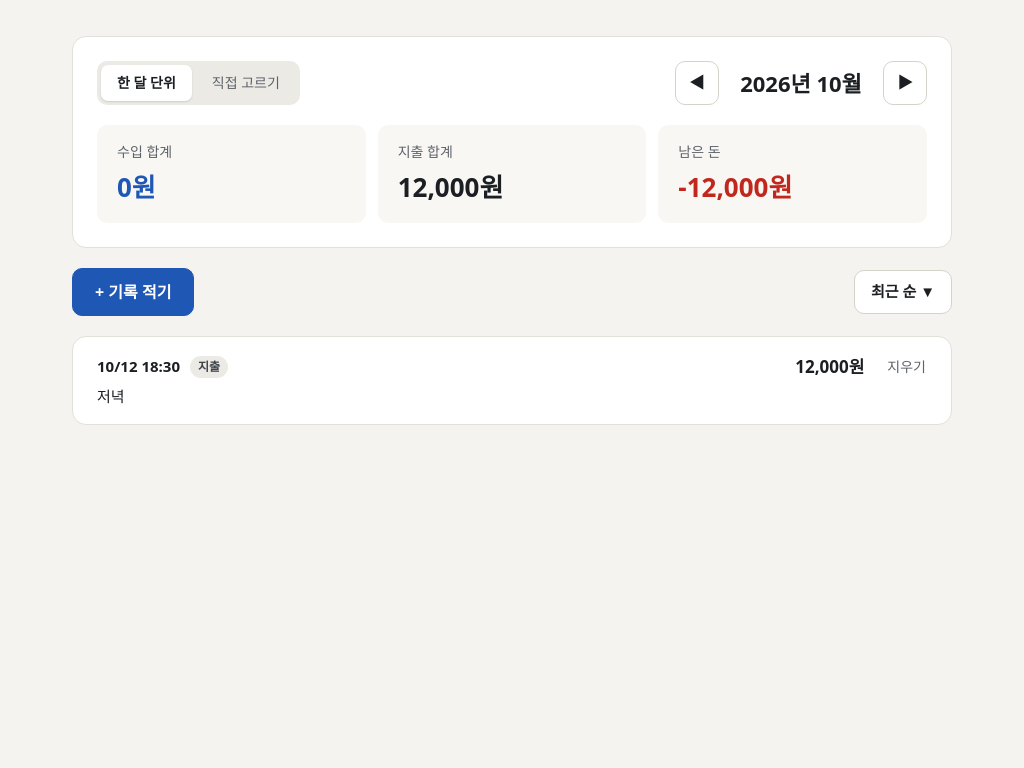
지우기 (P-17) › T-311 [지우기]만 누르면 S-07이 열리고 요청하지 않는다. [아니요]는 요청 없이 닫는다
The image size is (1024, 768).
Expected: the text "저녁" is shown, [97,386,125,406]
Click the button "지우기": x=907, y=367 [874,345,939,389]
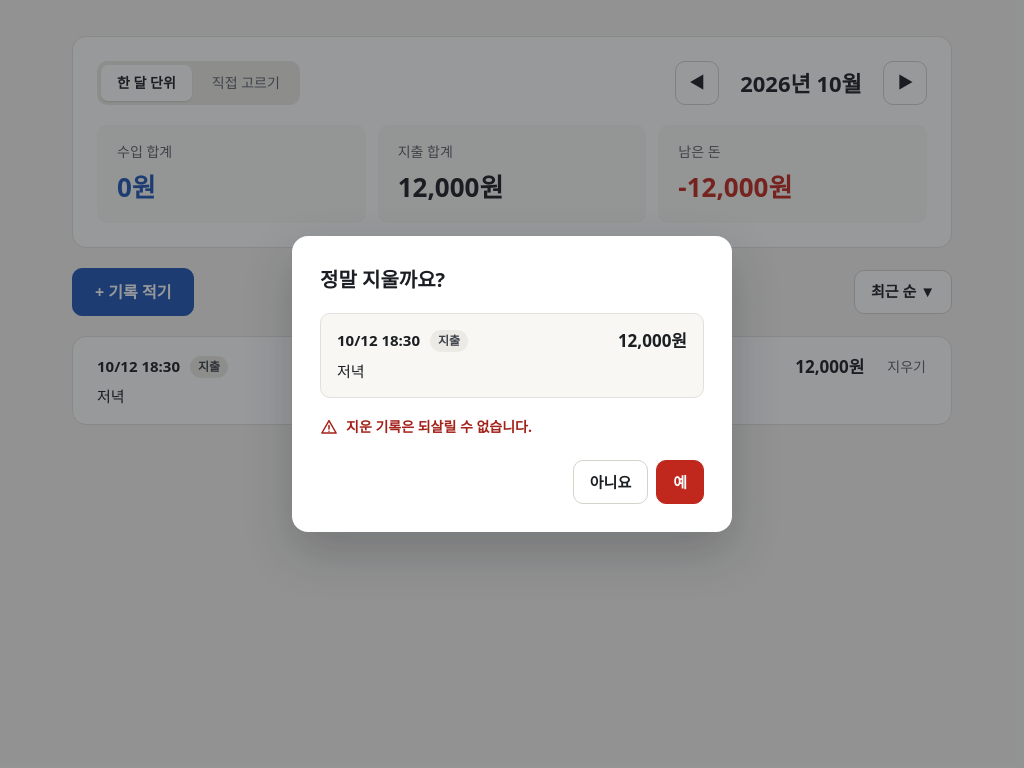
Expected: the heading "정말 지울까요?" is shown, [320,266,445,293]
Click the button "아니요": x=610, y=482 [573,460,648,504]
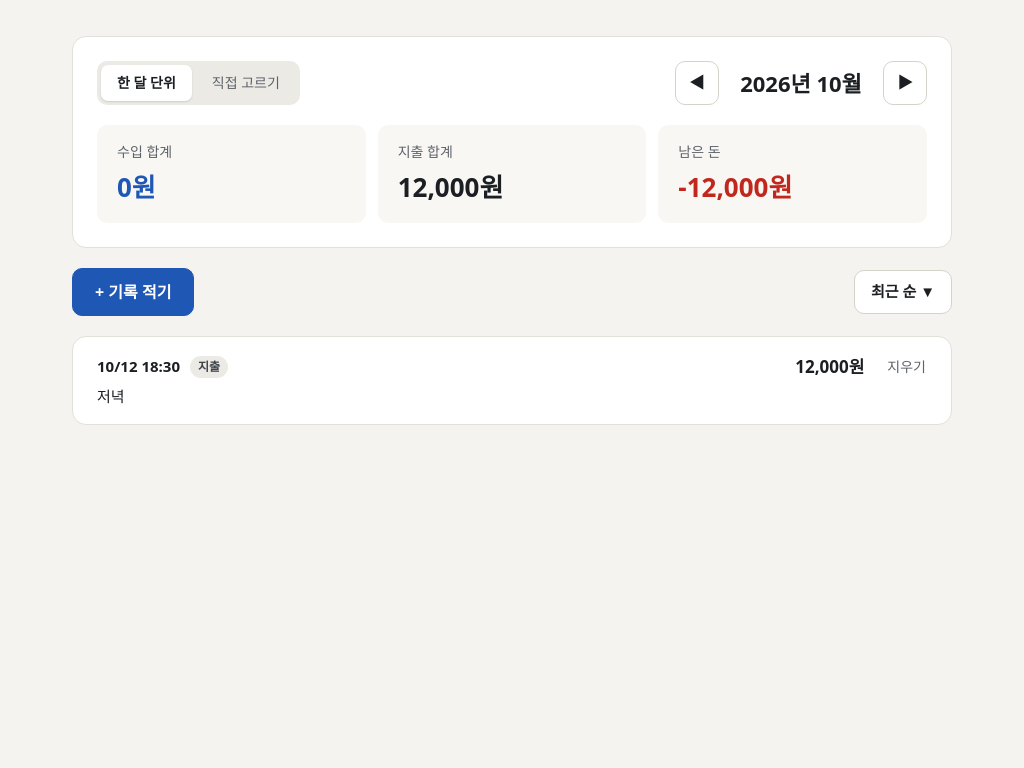
Expected: the dialog is gone
